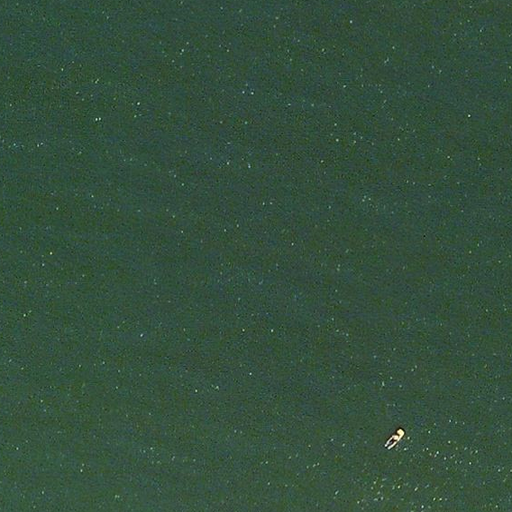ship: (382, 425, 407, 454)
